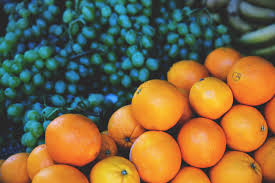orange: (126, 75, 184, 128), (225, 50, 275, 108), (128, 130, 183, 182), (176, 117, 228, 167), (48, 116, 101, 164), (220, 104, 269, 154), (189, 76, 238, 120)
